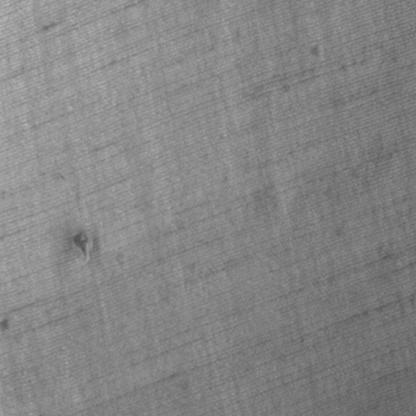objects: (70, 226, 96, 266)
